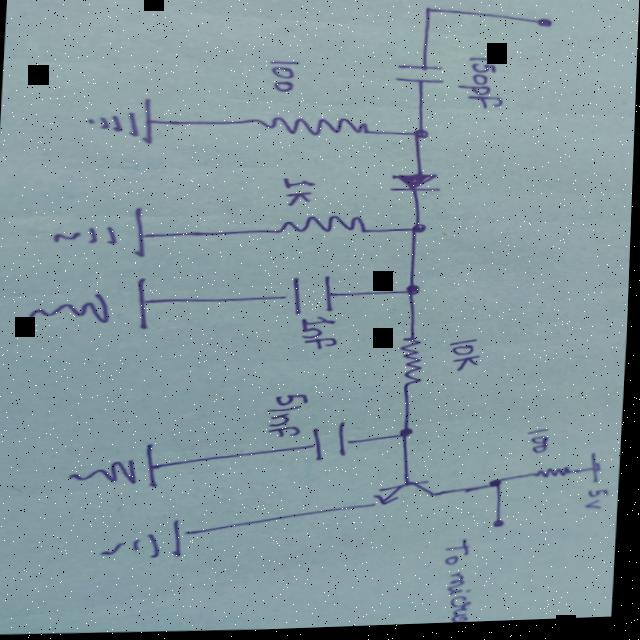capacitor: (285, 277, 343, 317), (310, 423, 356, 464), (394, 65, 449, 89)
diode: (391, 172, 441, 198)
ground: (33, 275, 165, 335), (49, 205, 160, 264), (68, 441, 173, 495), (101, 517, 205, 564), (83, 96, 165, 149)
junction: (404, 127, 435, 145), (402, 283, 429, 302), (394, 428, 422, 444), (404, 224, 429, 240), (486, 481, 514, 495), (414, 8, 442, 20)
resistor: (253, 115, 381, 140), (269, 215, 374, 238), (399, 340, 429, 389), (537, 467, 578, 483)
source: (590, 453, 610, 489)
terminal: (527, 19, 557, 33), (495, 519, 515, 532)
text: (442, 540, 483, 627), (460, 60, 513, 113), (266, 394, 317, 438), (299, 316, 346, 351), (278, 177, 322, 208), (449, 339, 487, 373), (270, 60, 307, 94), (581, 490, 619, 515), (527, 430, 558, 459)
transistor: (369, 480, 449, 515)
